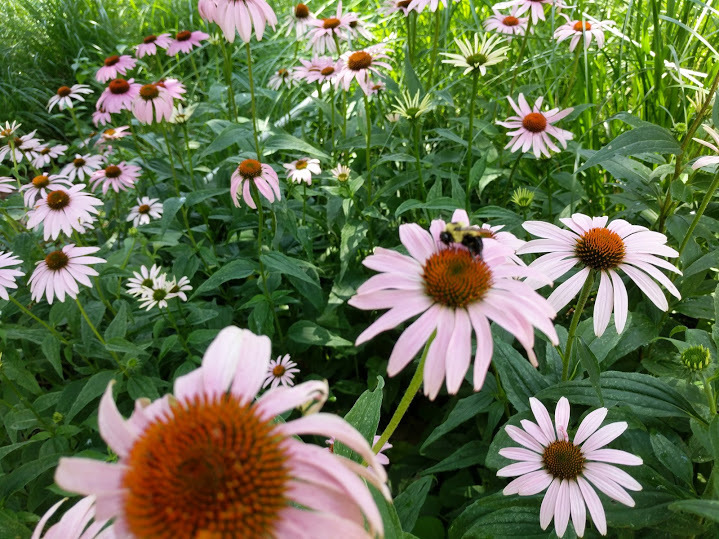bumblebee: (438, 219, 500, 259)
